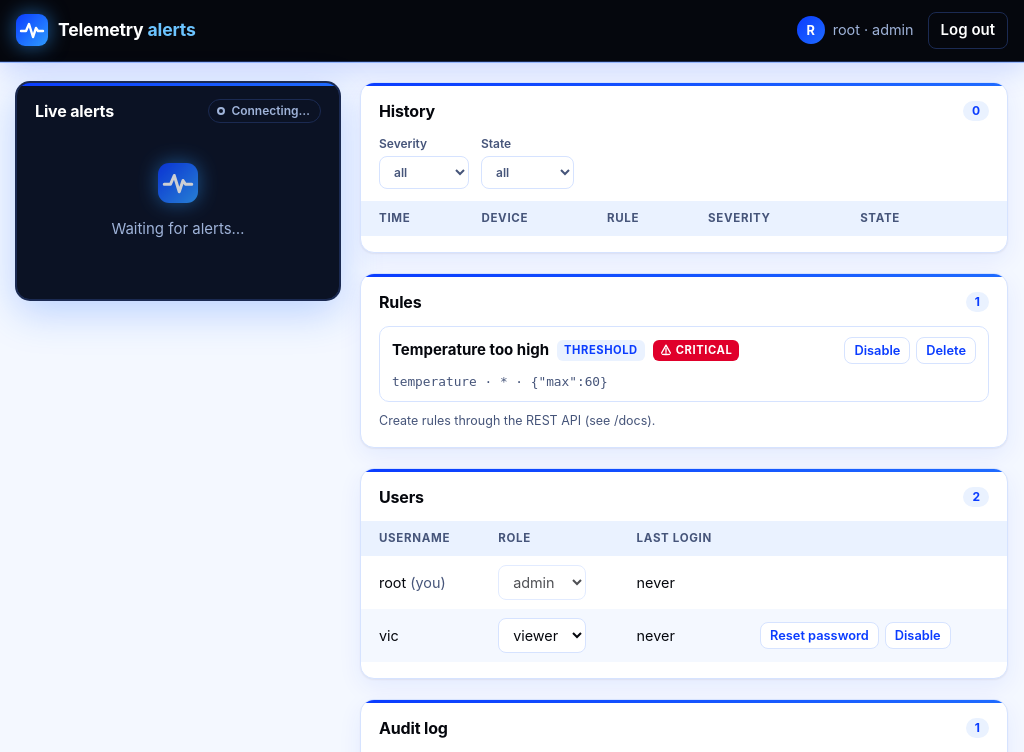
account lifecycle › lets an admin reset another user's password
Expected: the text "root · admin" is shown, [833,19,914,41]
Click the button "Reset password".
click(819, 636)  # box [760,622,879,649]
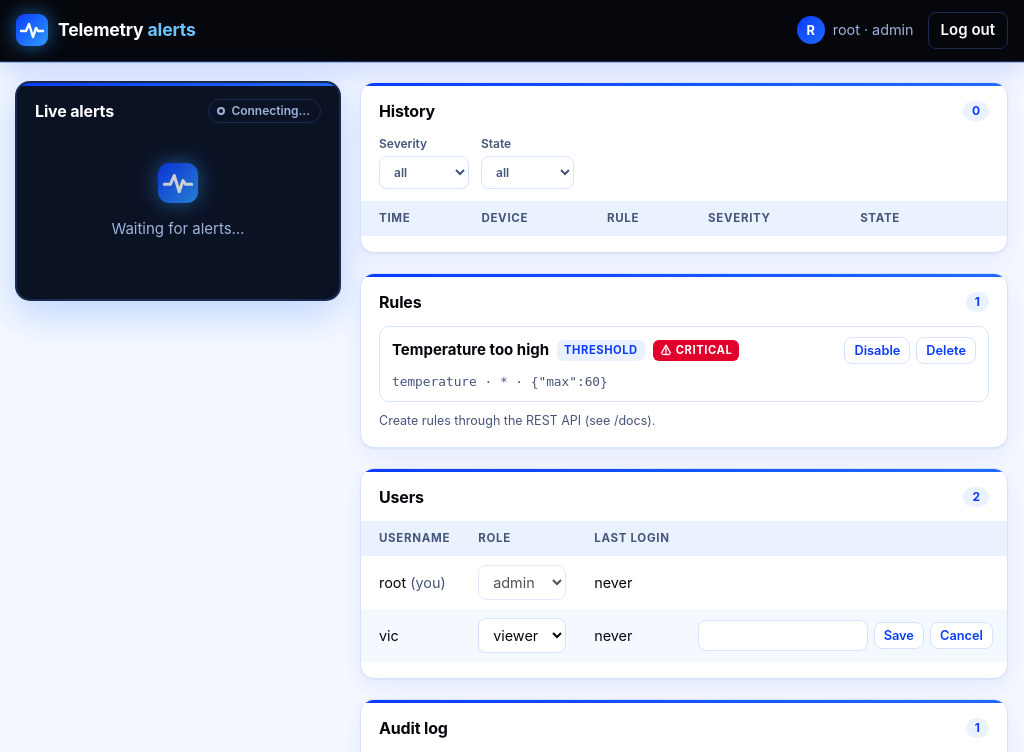
Type "reset-password-123" into the password field named "New password for vic".
click(783, 636); type("reset-password-123")  # box [698,620,868,652]
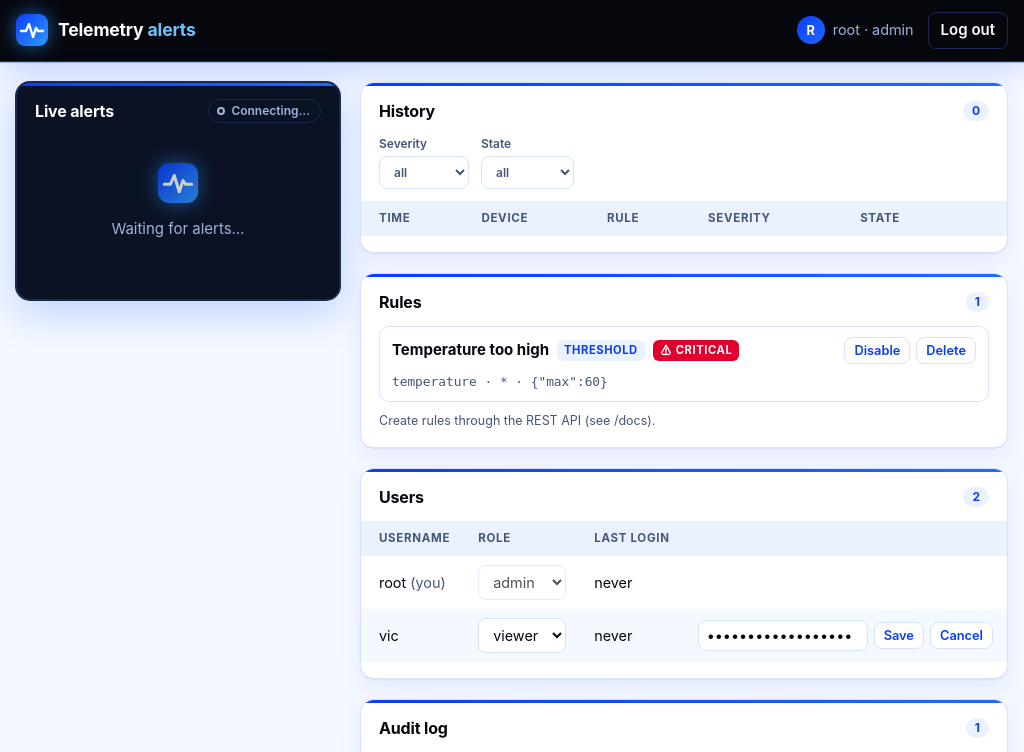
Click the button "Save".
click(899, 636)  # box [874,622,924,649]
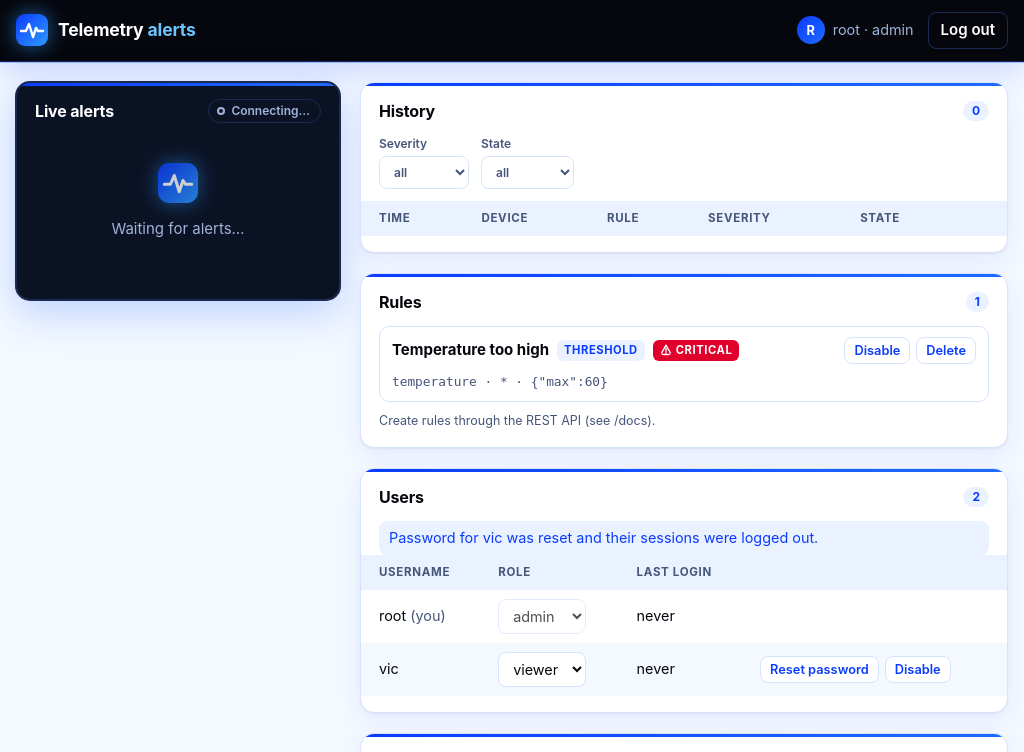
Expected: the text "Password for vic was reset and their sessions were logged out." is shown, [379,521,989,554]
